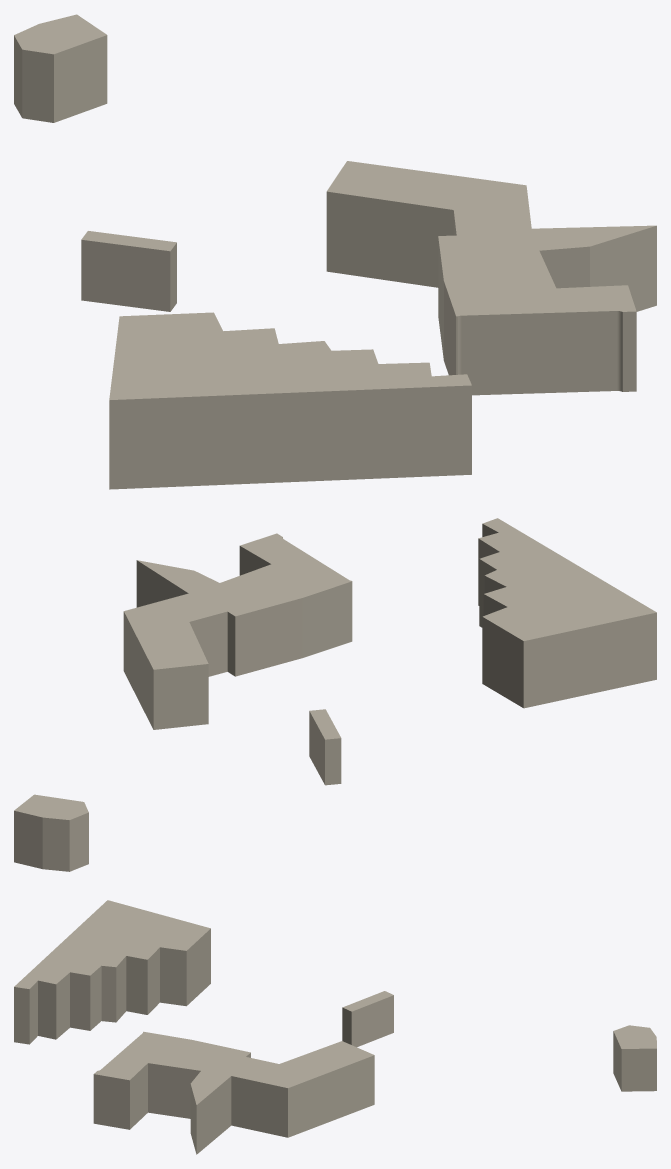
The model's file is bormla_62_24_far.glb.
The picture shows the model from 3 angles, top to bottom: view 1: azimuth 30°, elevation 25°; view 2: azimuth 150°, elevation 25°; view 3: azimuth 270°, elevation 25°; orthographic projection. The views are drawn at different scales.
Parts seen in each view (by area): view 1: geometry_0; view 2: geometry_0; view 3: geometry_0.
Boxes of the visible parts, box(x1,y1,x2,y2) form: geometry_0: box(14, 14, 656, 489); geometry_0: box(14, 518, 656, 871); geometry_0: box(14, 900, 656, 1154).
Bounding box in the file's own units: 108 × 18.66 × 157.
